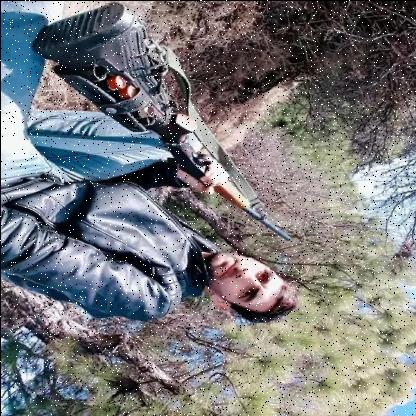rifle: (26, 0, 294, 242)
